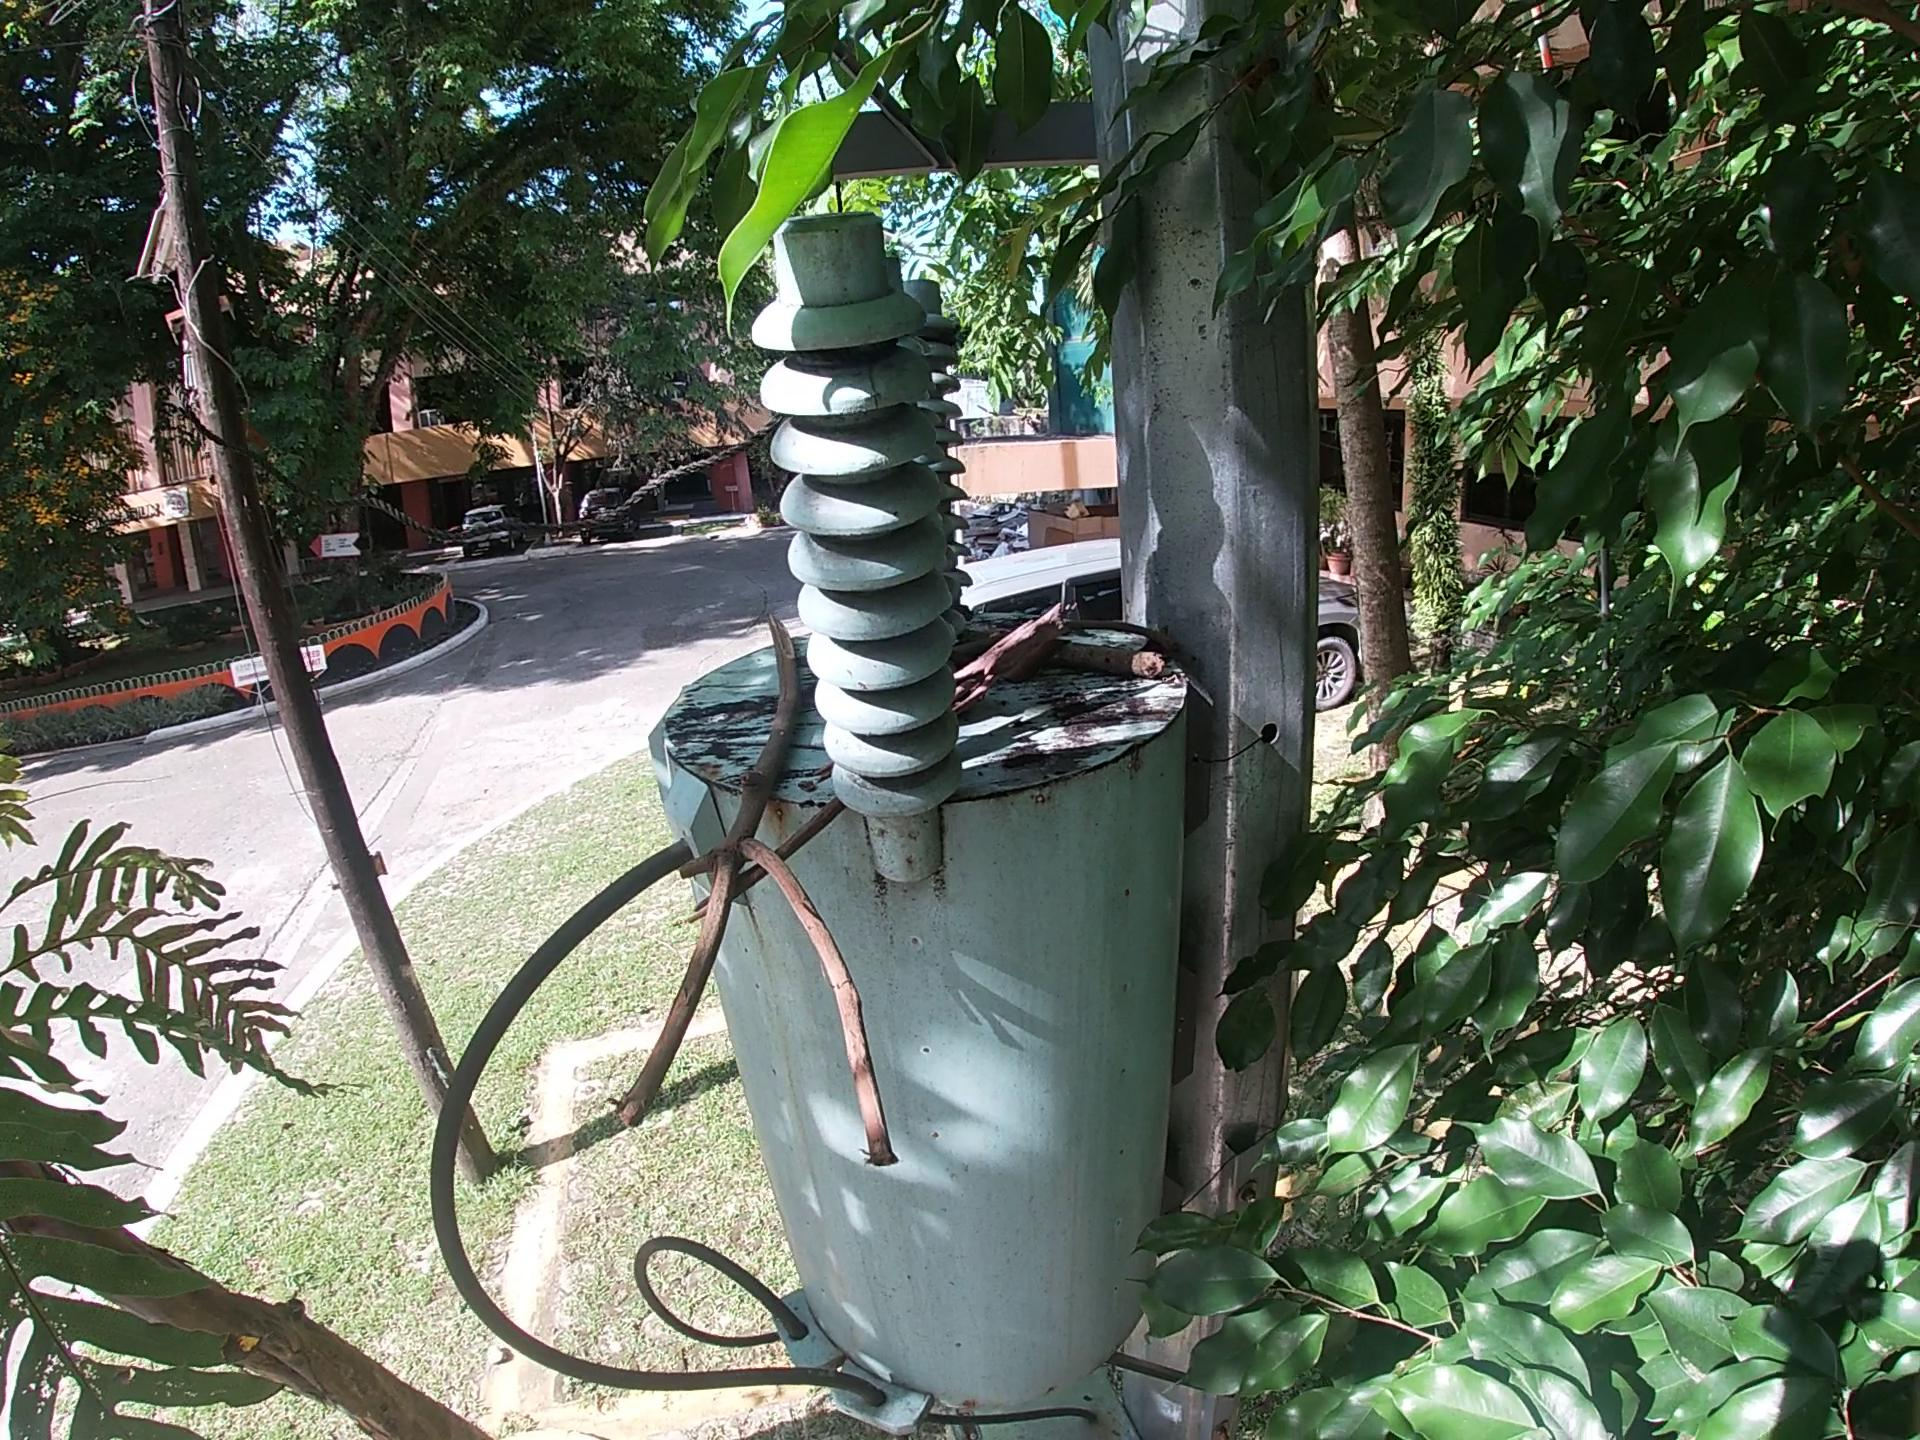tree branch: (603, 591, 898, 1218), (962, 593, 1085, 694), (1036, 640, 1188, 675), (1048, 625, 1194, 650), (958, 625, 998, 650)
